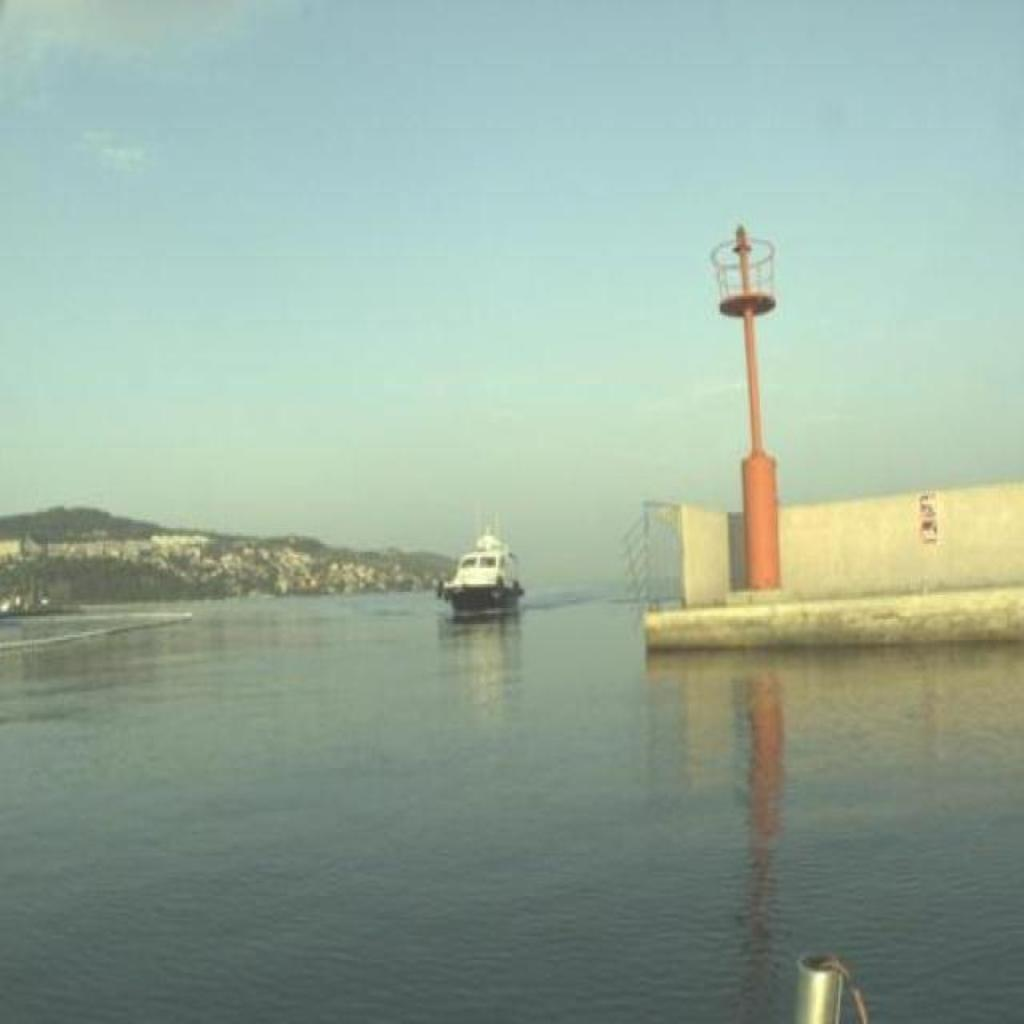PassengerShip: (434, 506, 528, 618)
